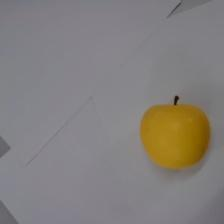yellow: (138, 90, 214, 171)
